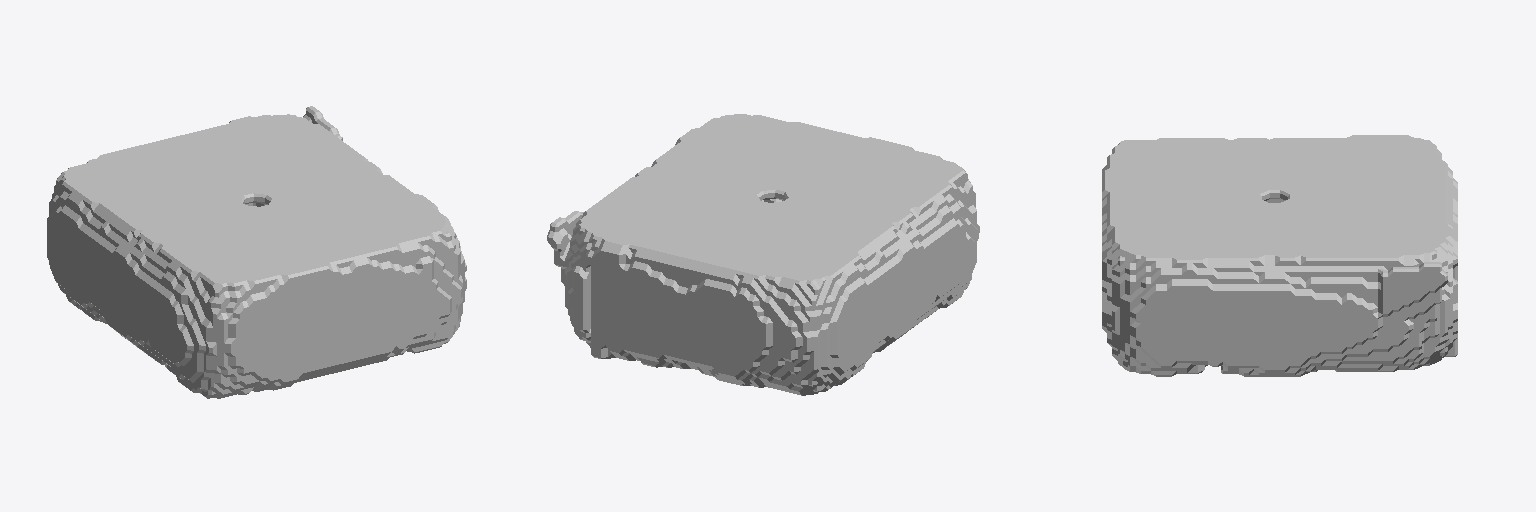
File: Input_surface_mesh.obj
The picture shows the model from 3 angles: view 1: azimuth 30°, elevation 25°; view 2: azimuth 150°, elevation 25°; view 3: azimuth 270°, elevation 25°; orthographic projection.
Bounding box in the file's own units: 4.96 × 2 × 5.52.